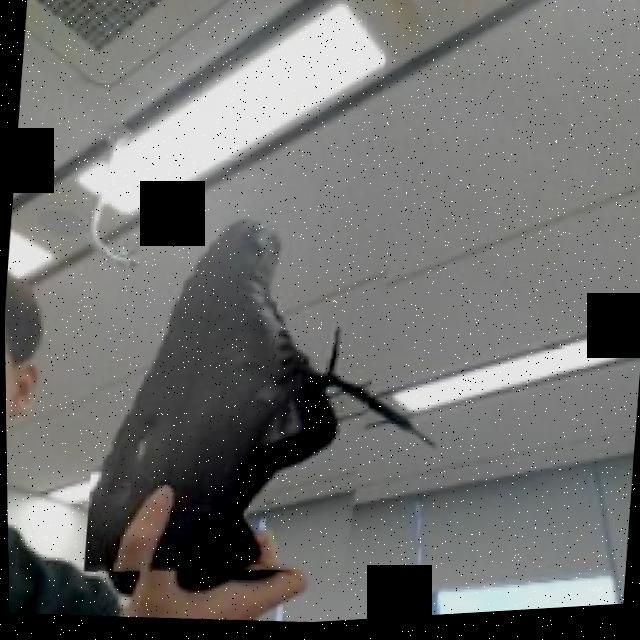shoe: (77, 193, 400, 598)
